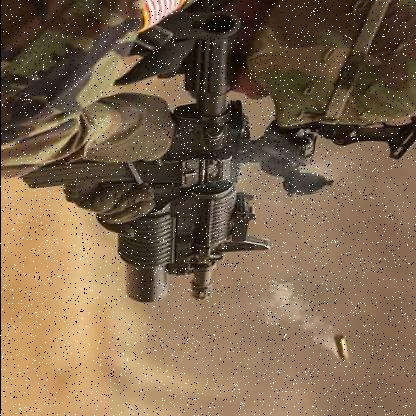rifle: (52, 0, 290, 336)
